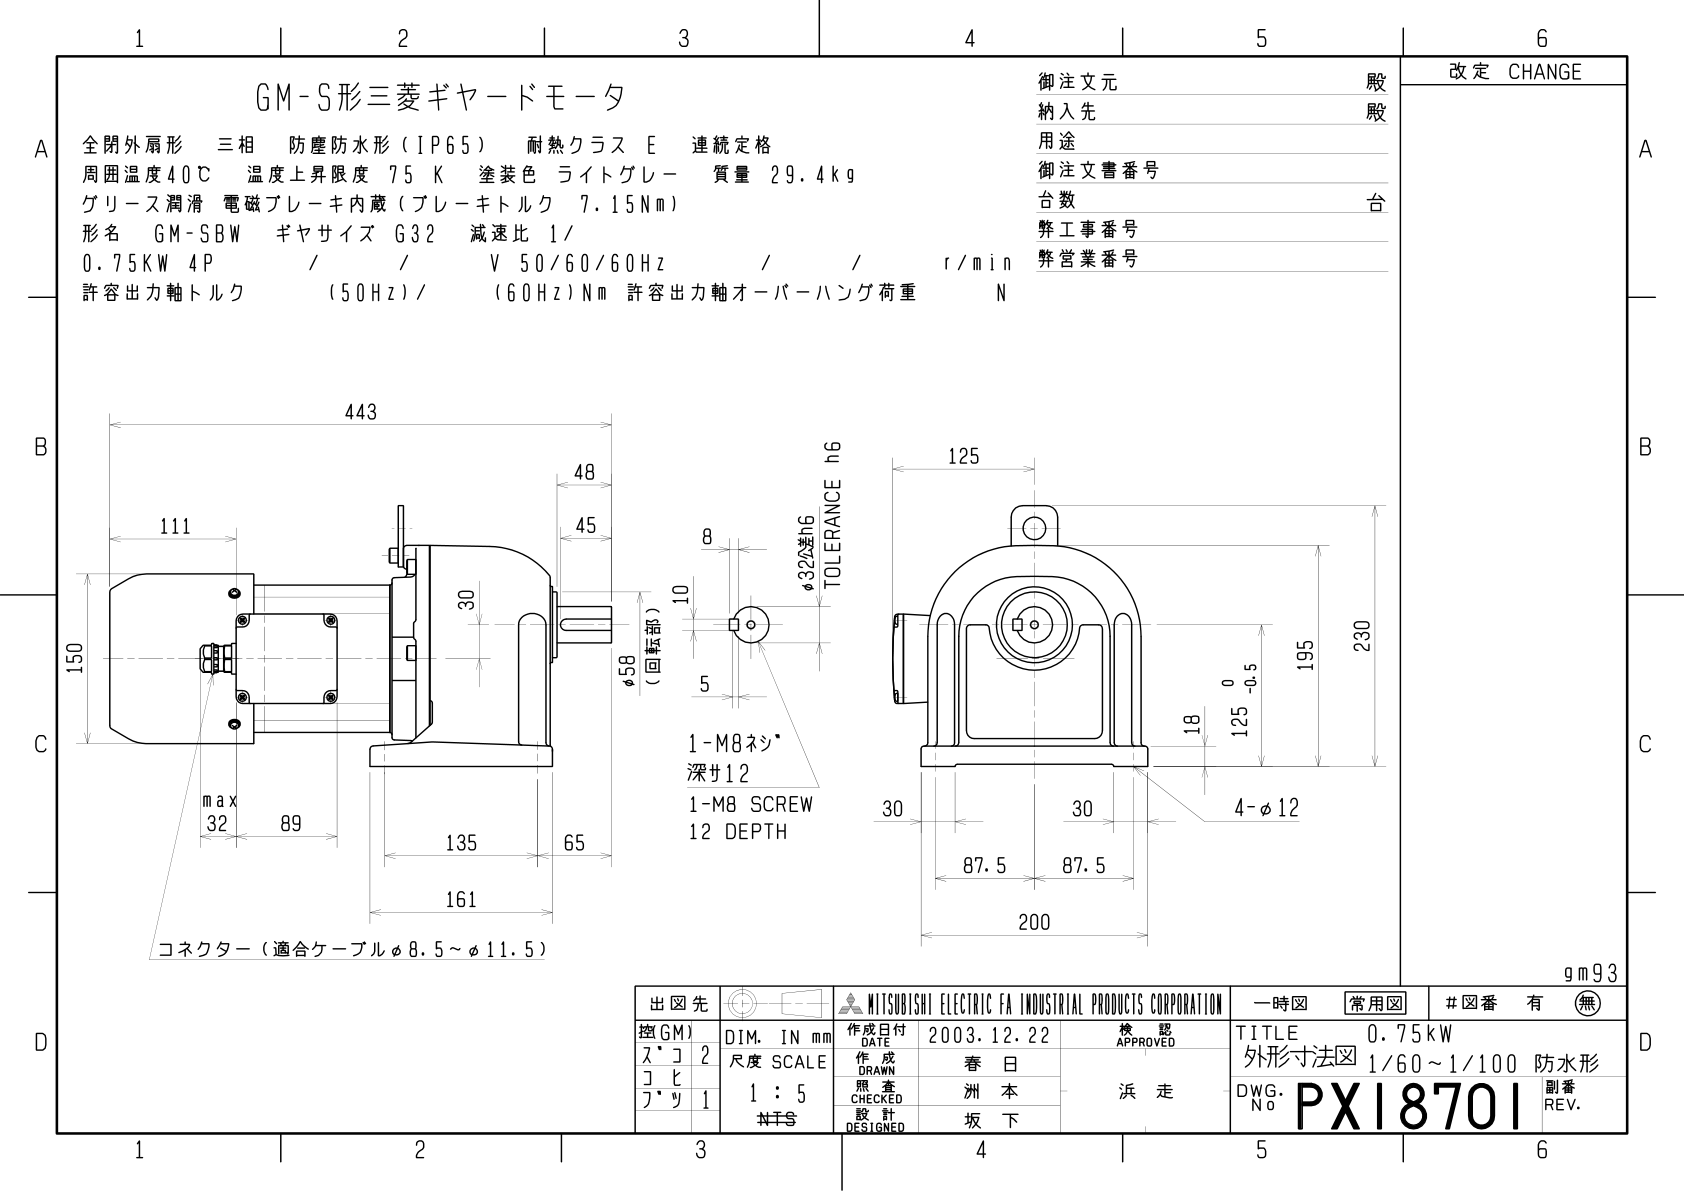GM_S_IP65＿三相_脚: (61, 363, 1393, 959)
